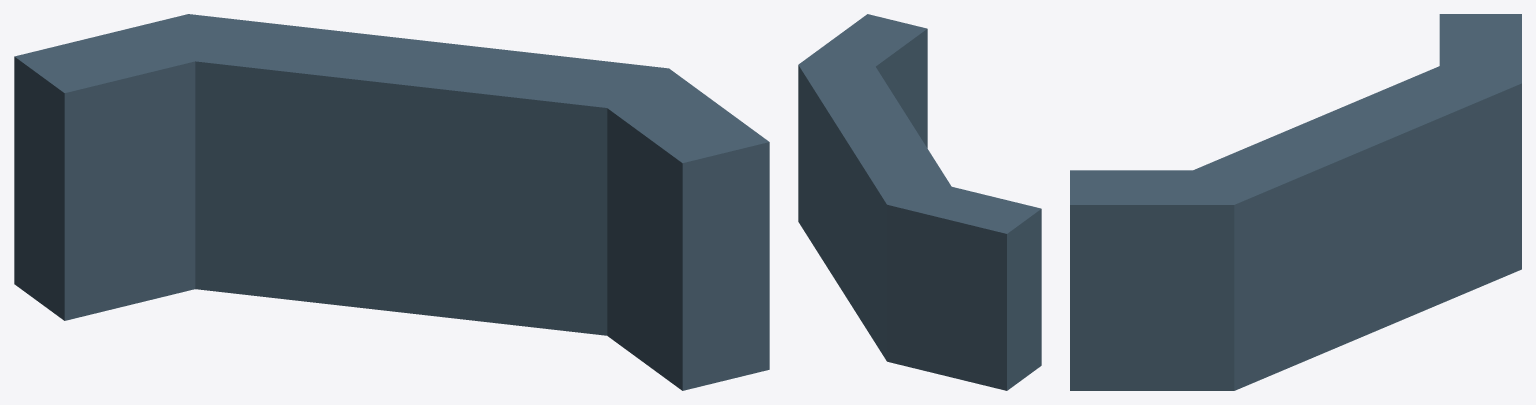
The model's file is W1_WallCorner_Angular1A_Top.fbx.
3 renders of one model, left to right at view 1: azimuth 30°, elevation 25°; view 2: azimuth 150°, elevation 25°; view 3: azimuth 270°, elevation 25°, orthographic. The views are drawn at different scales.
Visible parts, largest first — view 1: W1_WallCorner_Angular1A_Top.001; view 2: W1_WallCorner_Angular1A_Top.001; view 3: W1_WallCorner_Angular1A_Top.001.
Part boxes in pixels (left/top/right/bottom): W1_WallCorner_Angular1A_Top.001: left=14, top=14, right=769, bottom=390; W1_WallCorner_Angular1A_Top.001: left=798, top=14, right=1041, bottom=390; W1_WallCorner_Angular1A_Top.001: left=1070, top=14, right=1521, bottom=390.
Bounding box in the file's own units: 1.1 × 0.5 × 1.1.
